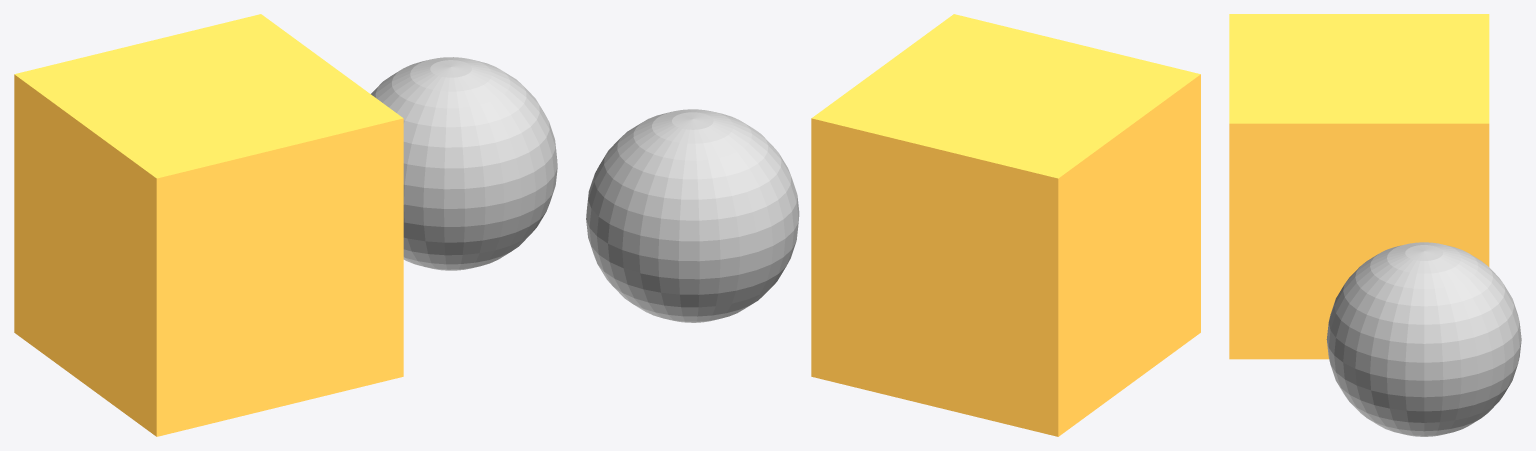
3 renders of one model, left to right at view 1: azimuth 30°, elevation 25°; view 2: azimuth 150°, elevation 25°; view 3: azimuth 270°, elevation 25°, orthographic. The views are drawn at different scales.
Parts seen in each view (by area): view 1: hero_block, orb; view 2: hero_block, orb; view 3: hero_block, orb.
Part boxes in pixels (x1=…): hero_block: x1=14, y1=14, x2=403, y2=436; orb: x1=371, y1=57, x2=557, y2=270; hero_block: x1=811, y1=14, x2=1200, y2=436; orb: x1=586, y1=109, x2=799, y2=322; hero_block: x1=1229, y1=14, x2=1489, y2=359; orb: x1=1326, y1=242, x2=1521, y2=436.
Size of what is drawn, in the model's own units: 3.2 by 1.6 by 1.8.
